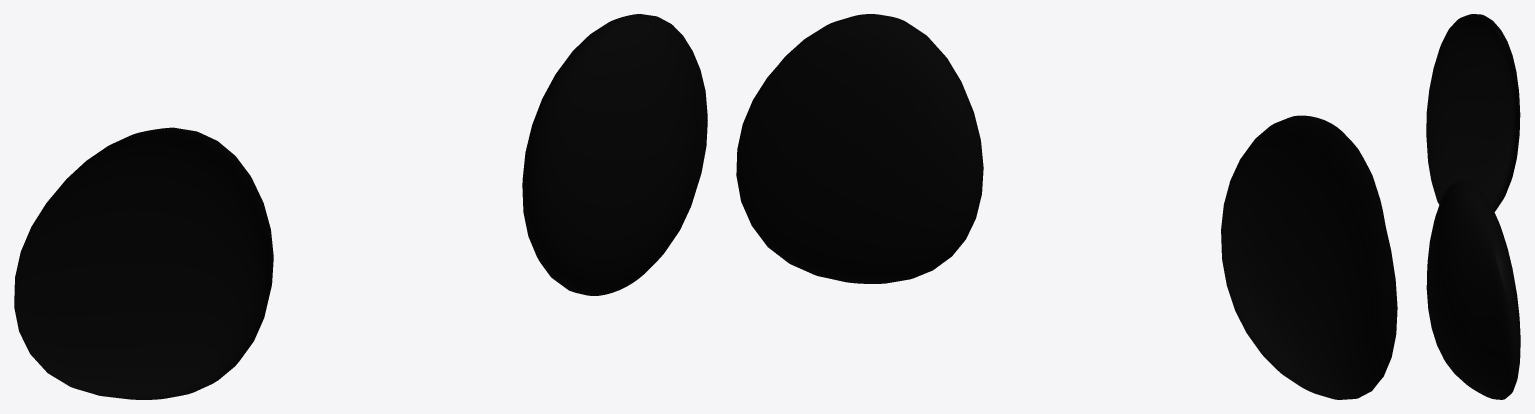
Rendered from Cartoon.glb.
The picture shows the model from 3 angles, left to right: view 1: azimuth 30°, elevation 25°; view 2: azimuth 150°, elevation 25°; view 3: azimuth 270°, elevation 25°; orthographic projection. The views are drawn at different scales.
Parts seen in each view (by area): view 1: Sphere.002; view 2: Sphere.002; view 3: Sphere.002.
Part boxes in pixels (x1=…): Sphere.002: x1=14, y1=14, x2=707, y2=399; Sphere.002: x1=736, y1=14, x2=1397, y2=399; Sphere.002: x1=1426, y1=14, x2=1520, y2=399.
Size of the model in its own units: 0.3462 by 0.1317 by 0.0557.
1 material, 1 textured.
